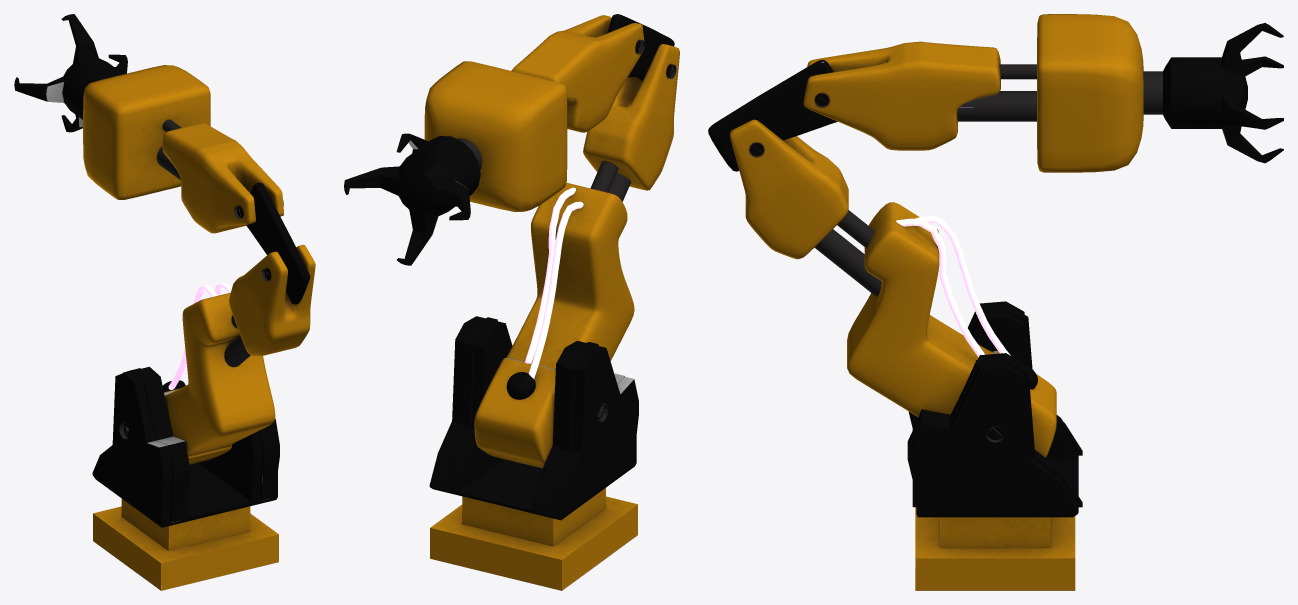
Rendered from robotic-arm.glb.
3 renders of one model, left to right at view 1: azimuth 30°, elevation 25°; view 2: azimuth 150°, elevation 25°; view 3: azimuth 270°, elevation 25°, orthographic. The views are drawn at different scales.
Parts seen in each view (by area): view 1: Cube, Plane.003, Cube.001, Plane.002, Plane, Cylinder.006, Plane.001, Cylinder.002, Cylinder.009, Cylinder.007; view 2: Cube, Cube.001, Plane.003, Plane.002, Plane, Cylinder.006, Cylinder.009, Cylinder.010, Plane.001, Cylinder.002, Cylinder.008; view 3: Cube, Cube.001, Plane.003, Plane.002, Plane, Cylinder.006, Plane.001, Cylinder.007, Cylinder.002, Cylinder.010, Cylinder.009.
Part boxes in pixels (x1,y1,x2,y2): Cube: (92,366,279,590); Plane.003: (83,65,210,199); Cube.001: (164,292,275,464); Plane.002: (162,123,283,233); Plane: (228,244,315,355); Cylinder.006: (14,14,127,132); Plane.001: (246,182,310,304); Cylinder.002: (224,315,250,366); Cylinder.009: (168,284,217,389); Cylinder.007: (156,119,181,180); Cube: (429,316,638,590); Cube.001: (474,182,634,468); Plane.003: (424,61,567,211); Plane.002: (511,15,644,132); Plane: (583,44,679,190); Cylinder.006: (344,133,482,265); Cylinder.009: (528,201,583,378); Cylinder.010: (524,187,575,363); Plane.001: (607,14,674,80); Cylinder.002: (590,161,630,201); Cylinder.008: (506,372,535,399); Cube: (907,301,1082,590); Cube.001: (847,202,1056,457); Plane.003: (1037,14,1143,172); Plane.002: (803,41,1000,150); Plane: (730,119,848,259); Cylinder.006: (1143,23,1283,163); Plane.001: (708,60,837,171); Cylinder.007: (957,64,1036,121); Cylinder.002: (814,210,881,296); Cylinder.010: (896,218,985,357); Cylinder.009: (915,215,1010,355).
Size of the model in its own units: 263 by 911 by 893.
1 material, 1 textured.
